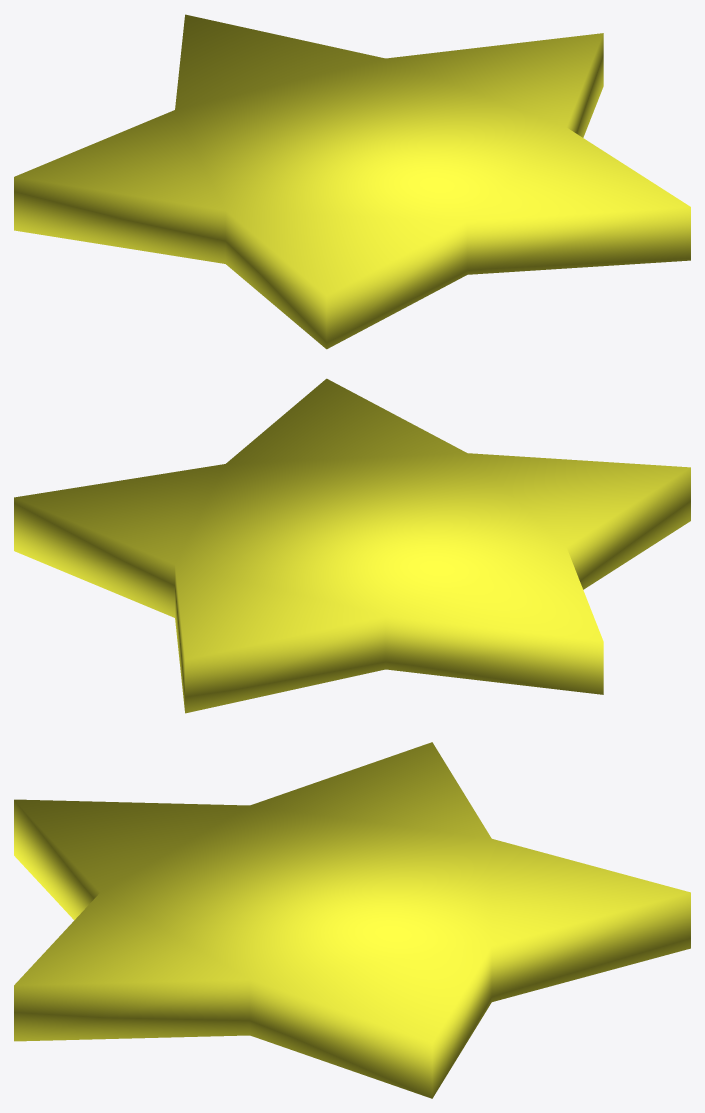
Rendered from star.glb.
3 renders of one model, top to bottom at view 1: azimuth 30°, elevation 25°; view 2: azimuth 150°, elevation 25°; view 3: azimuth 270°, elevation 25°, orthographic. The views are drawn at different scales.
Parts seen in each view (by area): view 1: Circle; view 2: Circle; view 3: Circle.
Part boxes in pixels (bbox=[...]): Circle: bbox=[14, 14, 690, 349]; Circle: bbox=[14, 378, 690, 713]; Circle: bbox=[14, 742, 690, 1098].
Size of the model in its own units: 1.9 by 0.1653 by 1.81.
